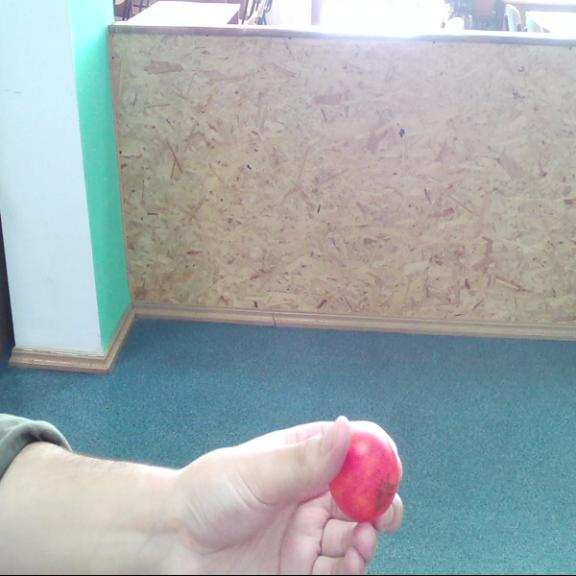ball: (330, 426, 402, 524)
